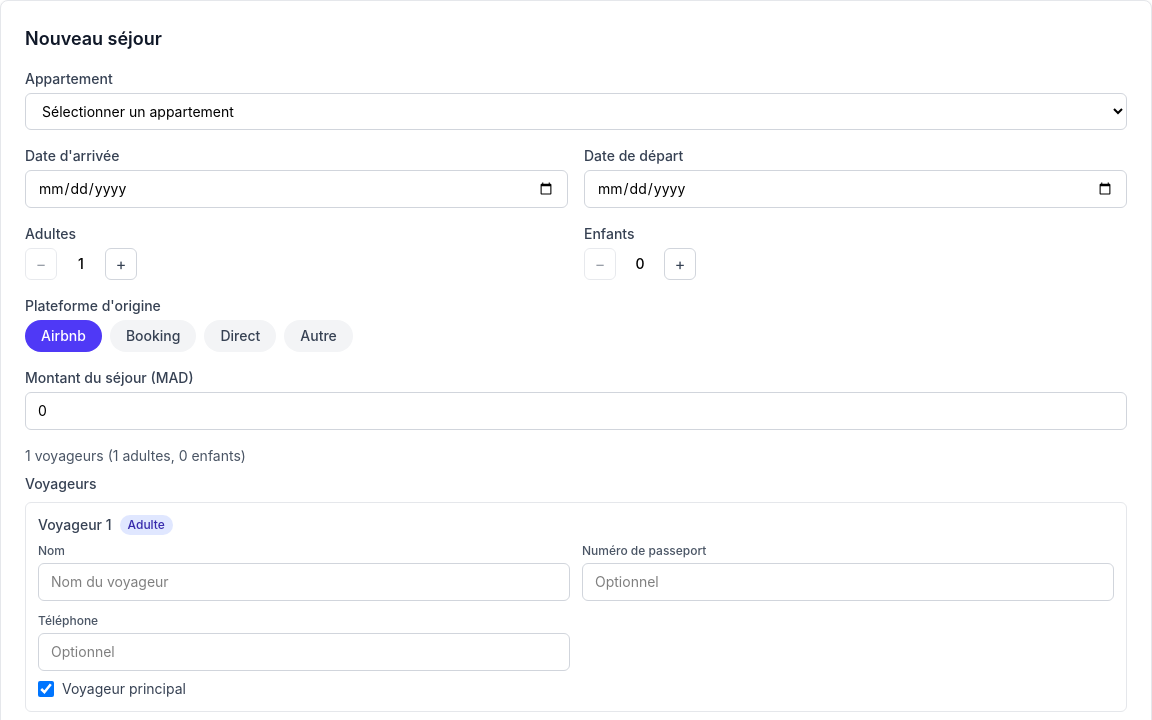
Test case: NouveauSejourForm › le compteur Adultes ajoute/retire des blocs voyageur de type adulte
Click the button named "augmenter le nombre d'adultes" at (121, 264), box [105,248,137,280]
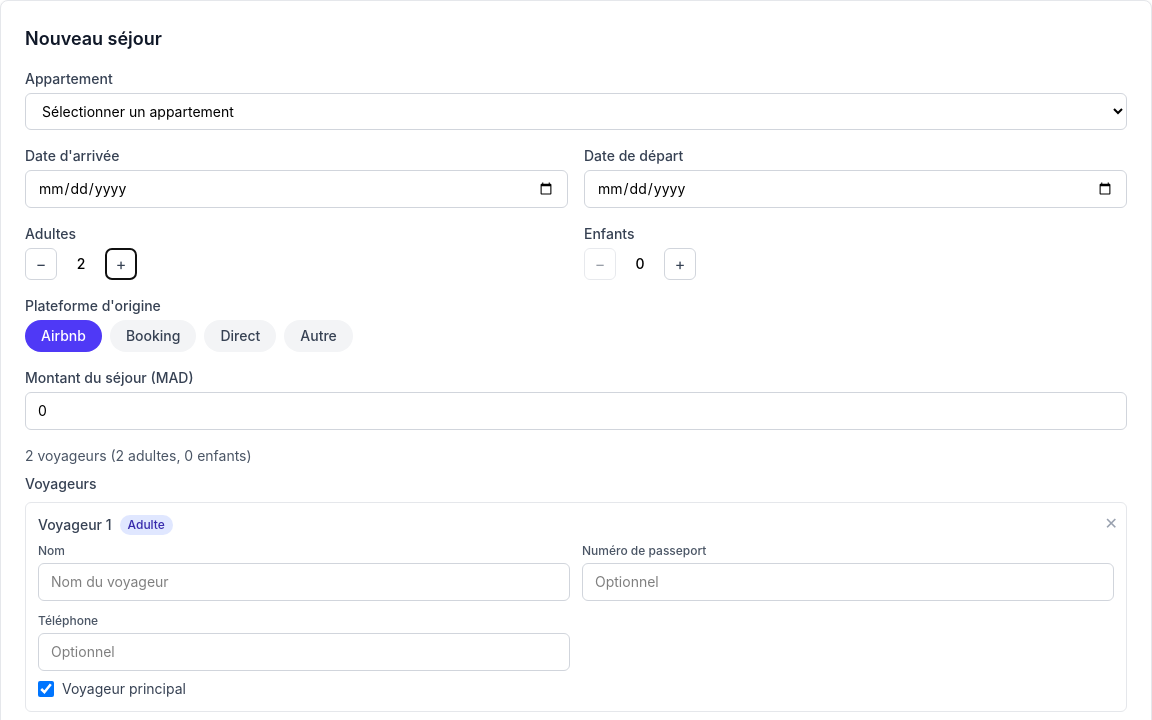
Check: the text with test id "nombre-adultes" reads "2", box [77,255,85,272]
Check: the text with test id "resume-voyageurs" reads "2 voyageurs (2 adultes, 0 enfants)", box [25,447,252,464]
Click the button named "diminuer le nombre d'adultes" at (41, 264), box [25,248,57,280]
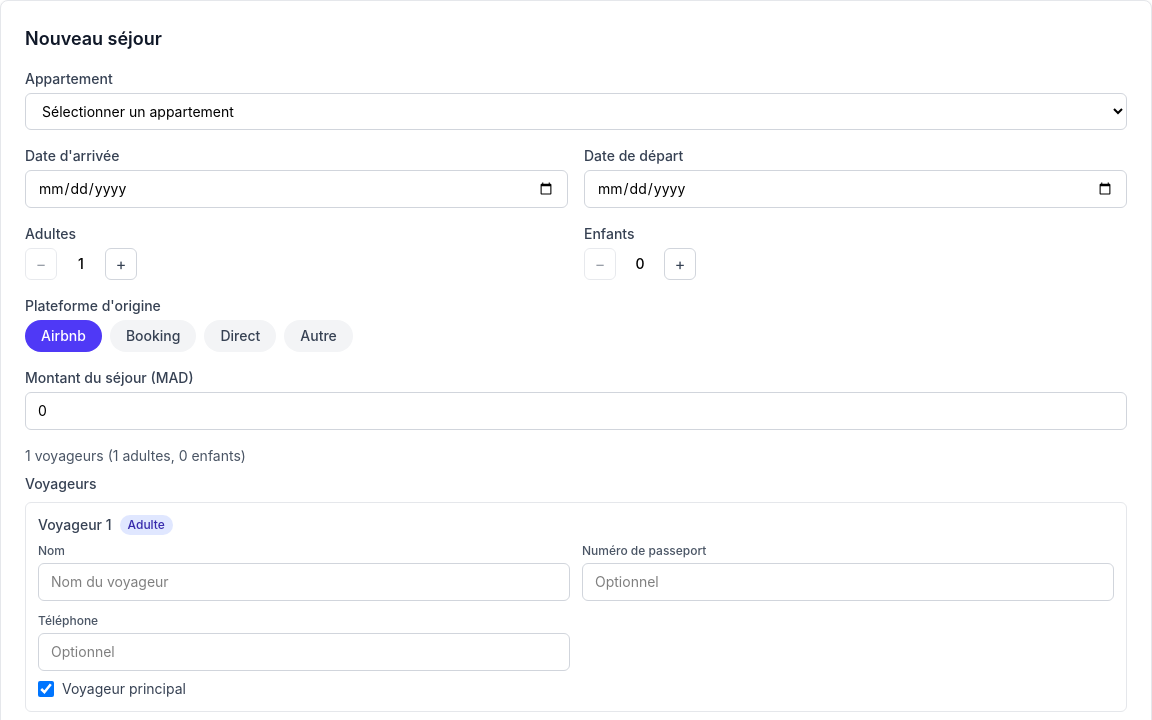
Check: the text with test id "nombre-adultes" reads "1", box [78,255,84,272]
